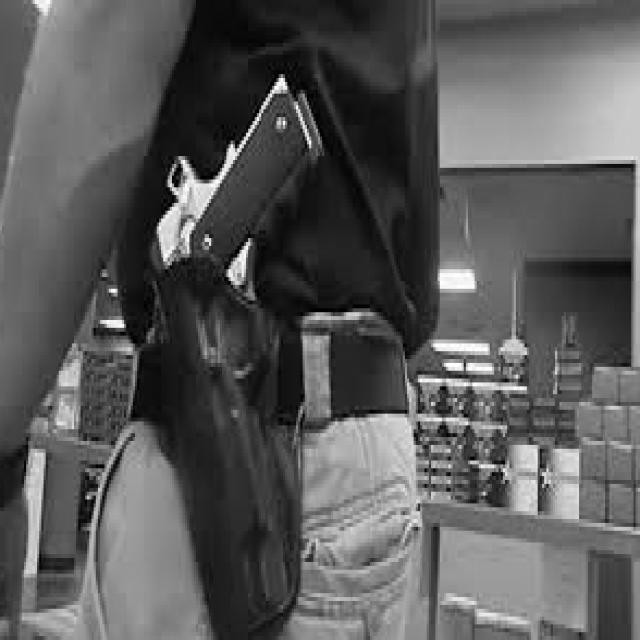gun: (133, 35, 350, 640)
